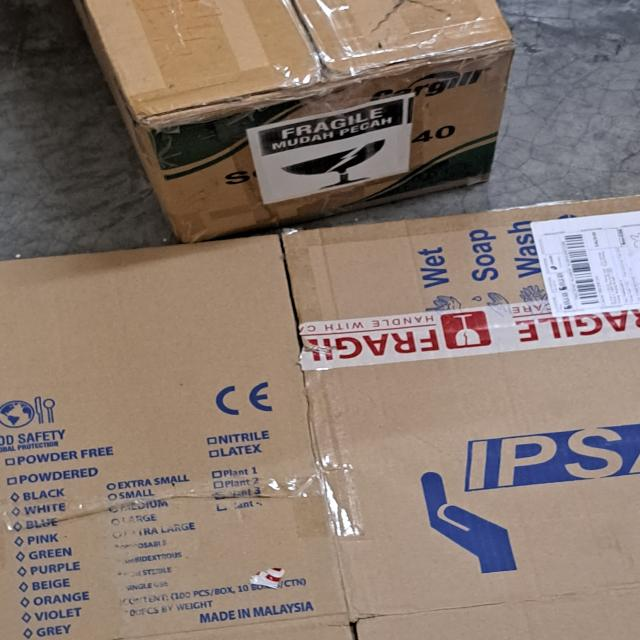cardboard: (0, 191, 640, 640), (71, 0, 520, 242)
